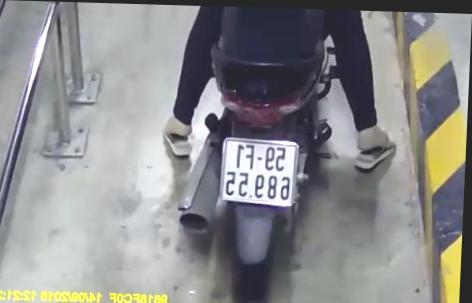License_Plate: (209, 133, 306, 209)
